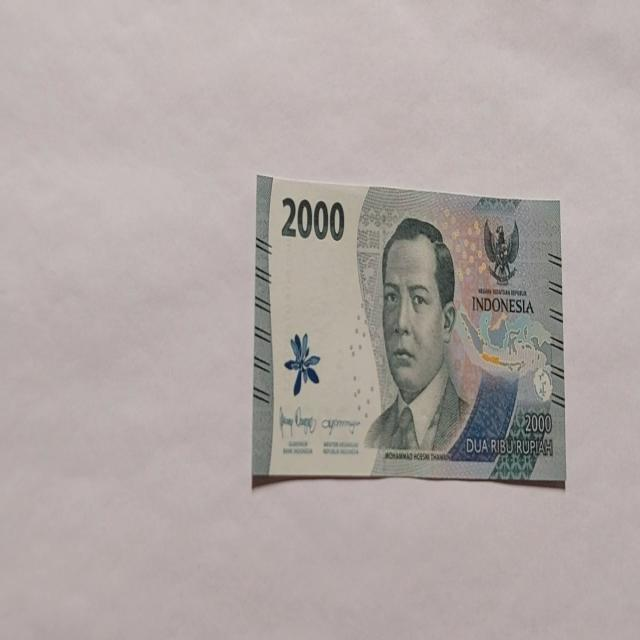dua ribu rupiah: (252, 172, 566, 488), (363, 215, 471, 457)
